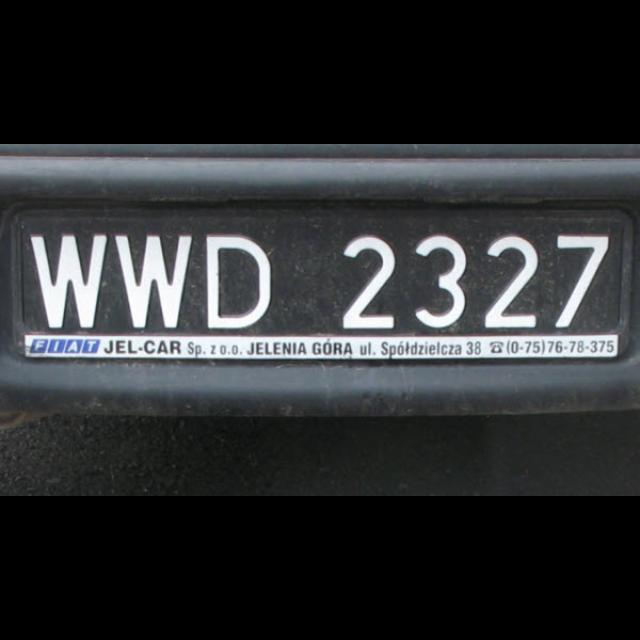pl_license_plate: (18, 215, 618, 332)
